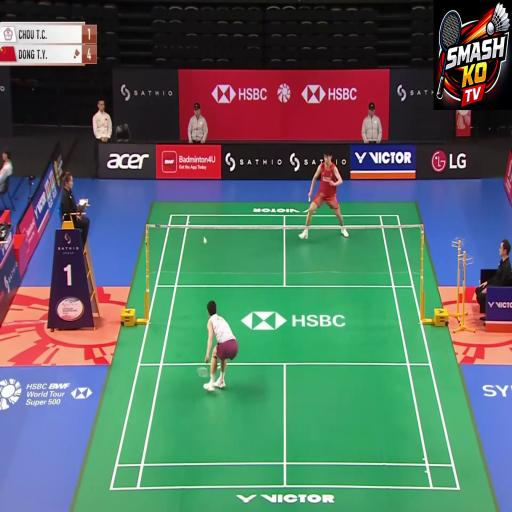player: (202, 283, 241, 421), (309, 132, 346, 267)
